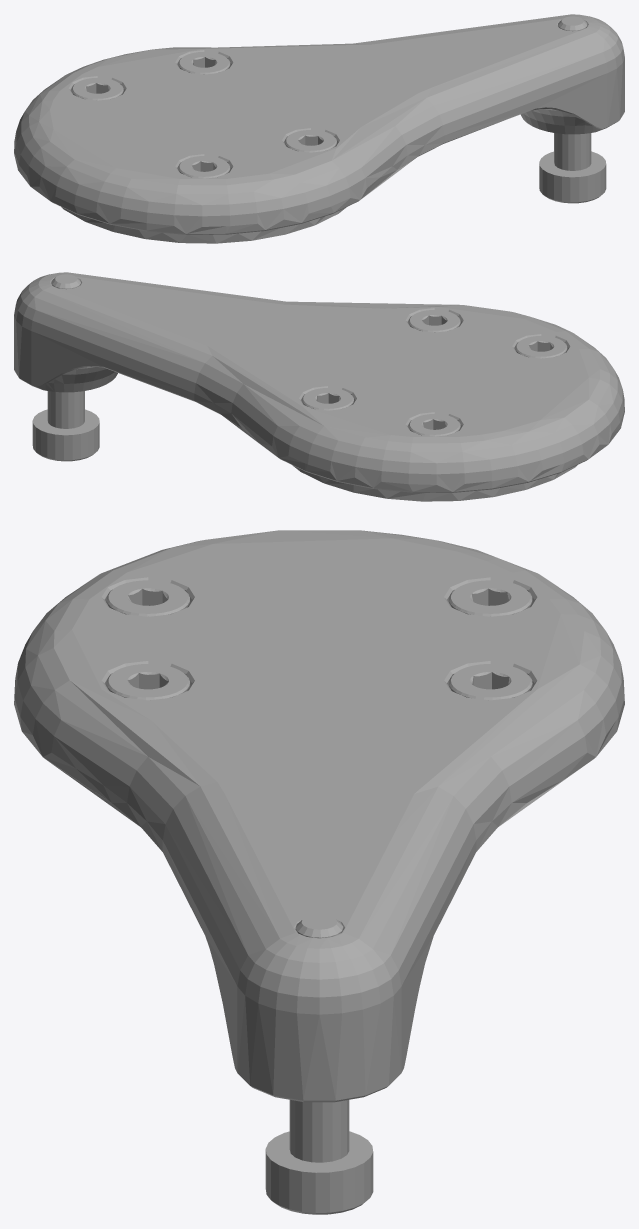
Rendered from toe-output.obj.
3 views of the same model, one above another, from view 1: azimuth 30°, elevation 25°; view 2: azimuth 150°, elevation 25°; view 3: azimuth 270°, elevation 25° (orthographic). The views are drawn at different scales.
Parts seen in each view (by area): view 1: toe-output; view 2: toe-output; view 3: toe-output.
Part boxes in pixels (x1,y1,x2,y2): toe-output: (14, 14, 624, 243); toe-output: (14, 272, 624, 501); toe-output: (14, 530, 624, 1214).
Size of the model in its own units: 0.0895 by 0.025 by 0.051.
Materials: 1 (1 with a texture image).
